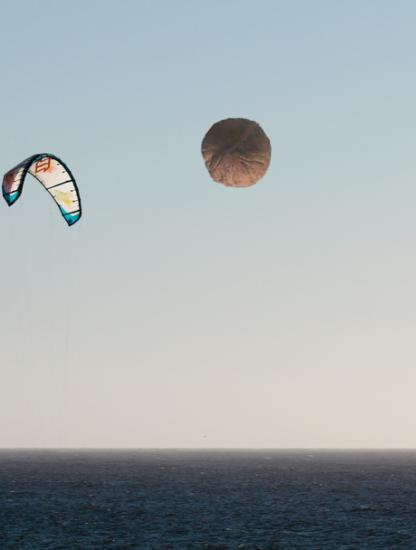Walnut: (200, 116, 274, 190)
